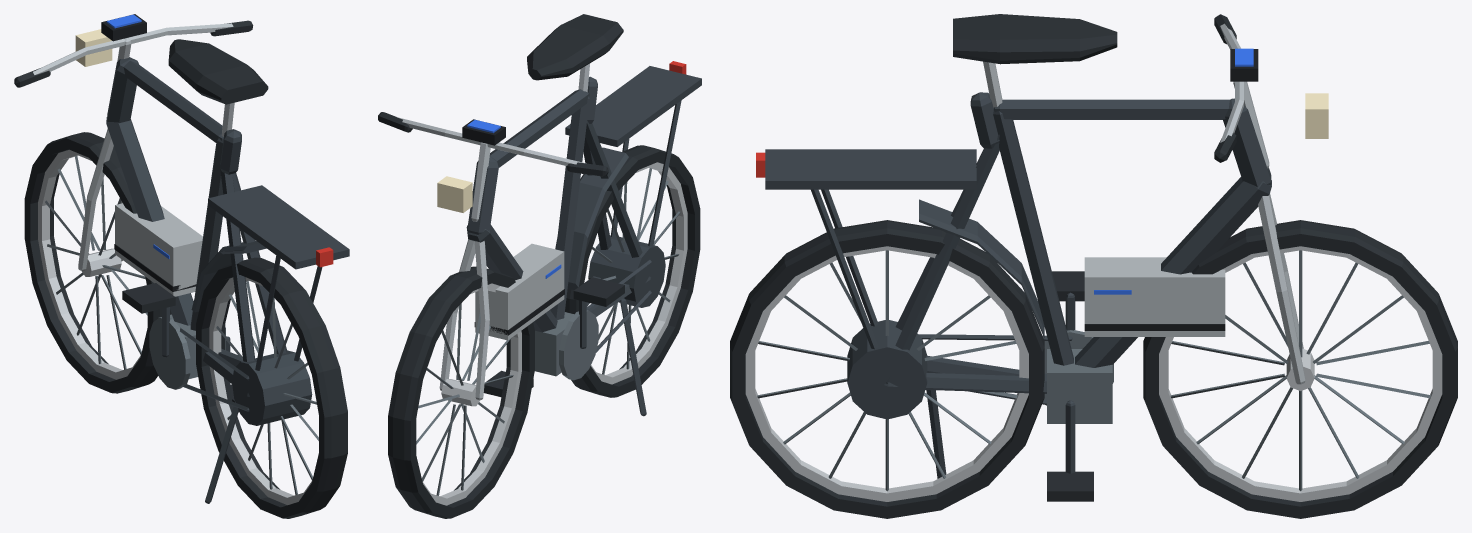
Rendered from SMALL_04.obj.
3 renders of one model, left to right at view 1: azimuth 30°, elevation 25°; view 2: azimuth 150°, elevation 25°; view 3: azimuth 270°, elevation 25°, orthographic. The views are drawn at different scales.
Visible parts, largest first — view 1: wheel_R, wheel_F, frame, rear_rack, battery, hub_motor, saddle, seatstays, chainring, handlebar, fork, pedals (+9 smaller); view 2: wheel_F, wheel_R, frame, rear_rack, battery, saddle, hub_motor, fenders, fork, seatstays, chainring, pedals (+8 smaller); view 3: wheel_F, wheel_R, frame, rear_rack, battery, saddle, hub_motor, motor_drive, seatstays, chainstays, fork, fenders (+5 smaller).
Part boxes in pixels (left/top/right/bottom): wheel_R: left=196, top=257, right=347, bottom=518; wheel_F: left=24, top=132, right=171, bottom=393; frame: left=106, top=57, right=241, bottom=330; rear_rack: left=208, top=185, right=349, bottom=370; battery: left=114, top=203, right=202, bottom=296; hub_motor: left=232, top=350, right=312, bottom=425; saddle: left=168, top=39, right=268, bottom=104; seatstays: left=220, top=164, right=287, bottom=361; chainring: left=149, top=317, right=190, bottom=389; handlebar: left=33, top=23, right=233, bottom=74; fork: left=78, top=128, right=122, bottom=270; pedals: left=122, top=283, right=234, bottom=402; wheel_F: left=388, top=266, right=534, bottom=518; wheel_R: left=565, top=145, right=700, bottom=397; frame: left=466, top=76, right=597, bottom=332; rear_rack: left=565, top=66, right=701, bottom=246; battery: left=474, top=243, right=564, bottom=340; saddle: left=527, top=14, right=623, bottom=80; hub_motor: left=588, top=235, right=665, bottom=307; fenders: left=555, top=147, right=628, bottom=290; fork: left=439, top=239, right=489, bottom=400; seatstays: left=583, top=120, right=642, bottom=257; chainring: left=559, top=310, right=598, bottom=380; pedals: left=483, top=277, right=624, bottom=396; wheel_F: left=1143, top=220, right=1457, bottom=518; wheel_R: left=730, top=220, right=1044, bottom=518; frame: left=970, top=92, right=1271, bottom=367; rear_rack: left=765, top=149, right=976, bottom=349; battery: left=1084, top=257, right=1225, bottom=336; saddle: left=953, top=14, right=1117, bottom=64; hub_motor: left=847, top=320, right=927, bottom=419; motor_drive: left=1047, top=349, right=1112, bottom=423; seatstays: left=886, top=134, right=999, bottom=383; chainstays: left=884, top=355, right=1046, bottom=393; fork: left=1258, top=194, right=1305, bottom=384; fenders: left=919, top=199, right=1044, bottom=338.
Size of the model in its own units: 0.705 by 1.15 by 1.55.
